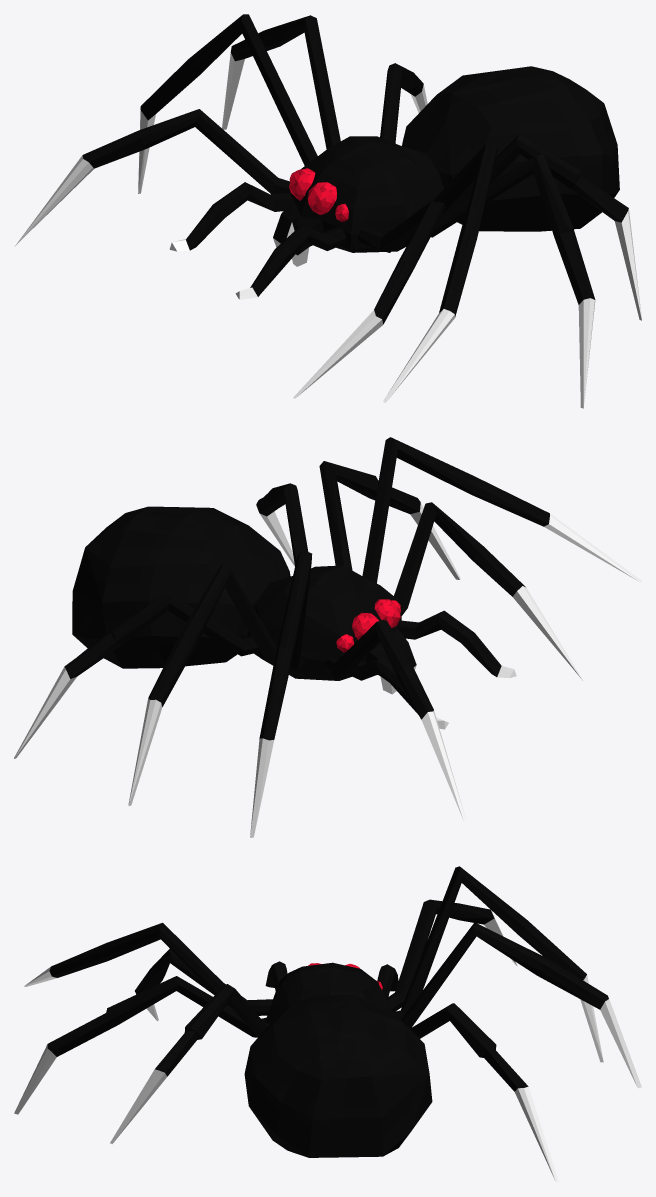
The model's file is spiderWalking4.obj.
3 views of the same model, one above another, from view 1: azimuth 30°, elevation 25°; view 2: azimuth 150°, elevation 25°; view 3: azimuth 270°, elevation 25° (orthographic). The views are drawn at different scales.
Parts seen in each view (by area): view 1: Cube.001_Cube.002; view 2: Cube.001_Cube.002; view 3: Cube.001_Cube.002.
Part boxes in pixels (bbox=[...]): Cube.001_Cube.002: bbox=[14, 14, 641, 408]; Cube.001_Cube.002: bbox=[14, 437, 641, 837]; Cube.001_Cube.002: bbox=[14, 866, 641, 1182].
Size of the model in its own units: 27.9 by 12.76 by 34.78.
